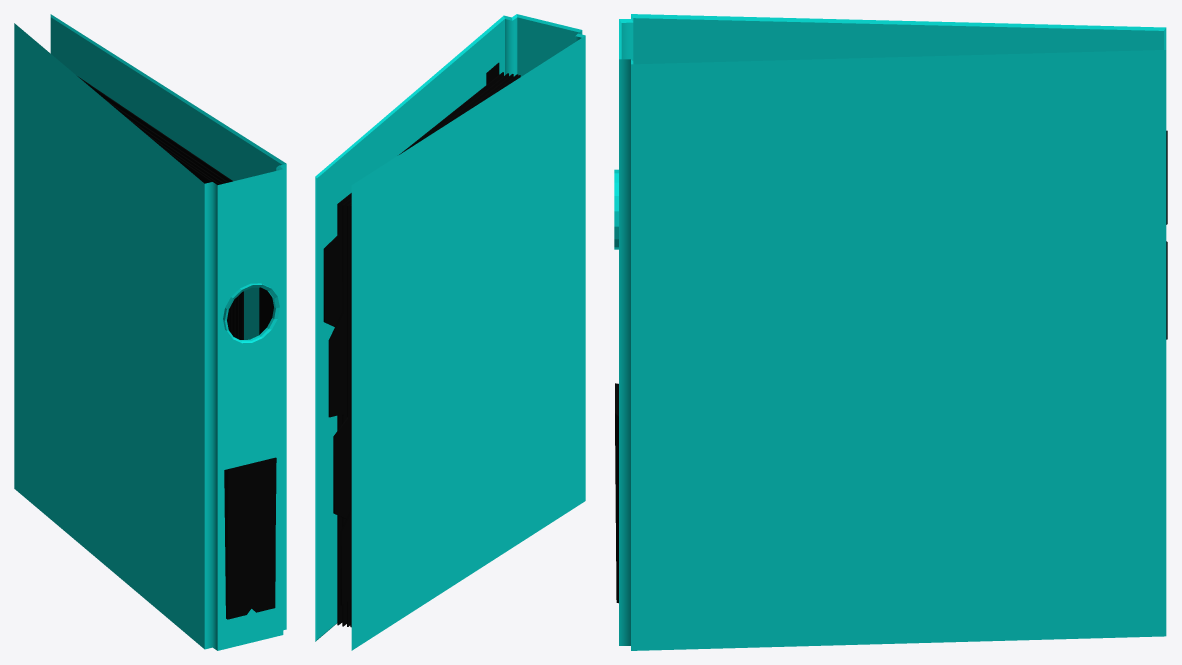
The model's file is binderLeMenuPourWichardson.fbx.
The picture shows the model from 3 angles, left to right: view 1: azimuth 30°, elevation 25°; view 2: azimuth 150°, elevation 25°; view 3: azimuth 270°, elevation 25°; orthographic projection. The views are drawn at different scales.
Parts seen in each view (by area): view 1: polySurface7, polySurface8, derriere, pasted__papierCote, polySurface9, polySurface6, pasted__pasted__pasted__pasted__pasted__feuille, pasted__pasted__pasted__pasted__feuille, pasted__pCube2, pasted__pasted__pasted__feuille; view 2: polySurface7, derriere, pasted__pasted__pasted__pasted__pasted__feuille, pasted__pasted__pasted__pasted__feuille, pasted__pasted__pasted__feuille, polySurface8, pasted__pasted__feuille, polySurface6, pasted__feuille; view 3: derriere, polySurface7, polySurface6, pasted__papierCote.
Boxes of the visible parts, x1,y1,x2,y2 form: polySurface7: (14,23,204,648); polySurface8: (217,169,283,650); derriere: (50,14,286,339); pasted__papierCote: (224,457,276,619); polySurface9: (204,182,217,650); polySurface6: (276,164,286,630); pasted__pasted__pasted__pasted__pasted__feuille: (77,76,243,339); pasted__pasted__pasted__pasted__feuille: (103,98,238,339); pasted__pCube2: (259,287,273,334); pasted__pasted__pasted__feuille: (125,116,235,337); polySurface7: (351,36,585,650); derriere: (315,15,504,641); pasted__pasted__pasted__pasted__pasted__feuille: (323,72,503,625); pasted__pasted__pasted__pasted__feuille: (328,73,508,626); pasted__pasted__pasted__feuille: (333,74,513,626); polySurface8: (517,14,581,76); pasted__pasted__feuille: (340,75,520,605); polySurface6: (504,14,517,76); pasted__feuille: (350,74,518,627); derriere: (631,50,1166,650); polySurface7: (631,14,1166,64); polySurface6: (619,59,633,645); pasted__papierCote: (615,383,618,603).
Size of the model in its own units: 5.43 by 29.44 by 25.18.
